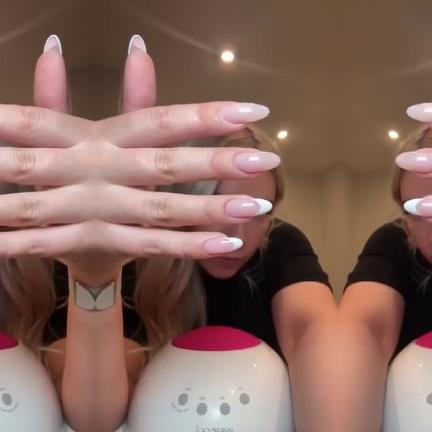Nail: (233, 151, 280, 173), (220, 103, 269, 124), (224, 198, 272, 218), (394, 151, 432, 173), (203, 237, 242, 254), (402, 198, 432, 218), (405, 103, 432, 124), (432, 241, 432, 244)
